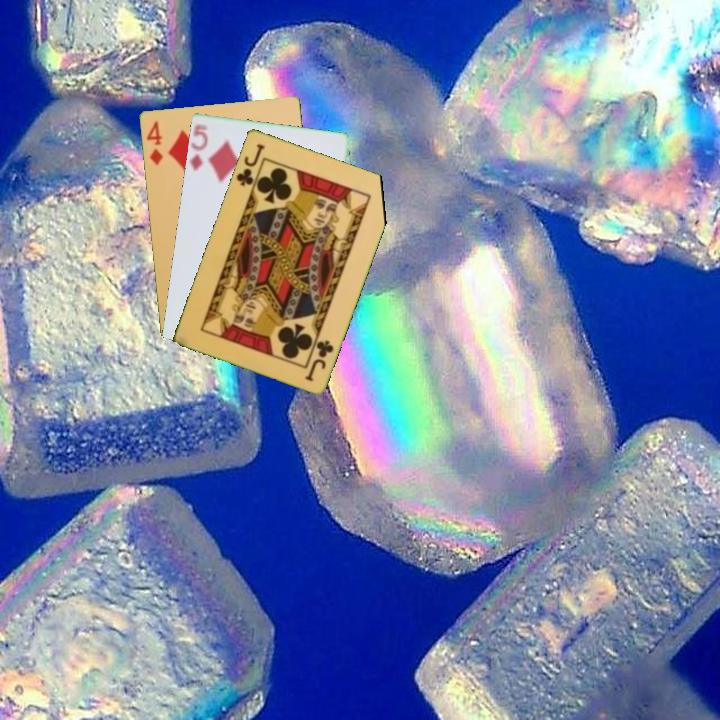4d: (143, 117, 165, 168)
5d: (186, 120, 210, 173)
Jc: (301, 336, 337, 384), (232, 140, 267, 189)
